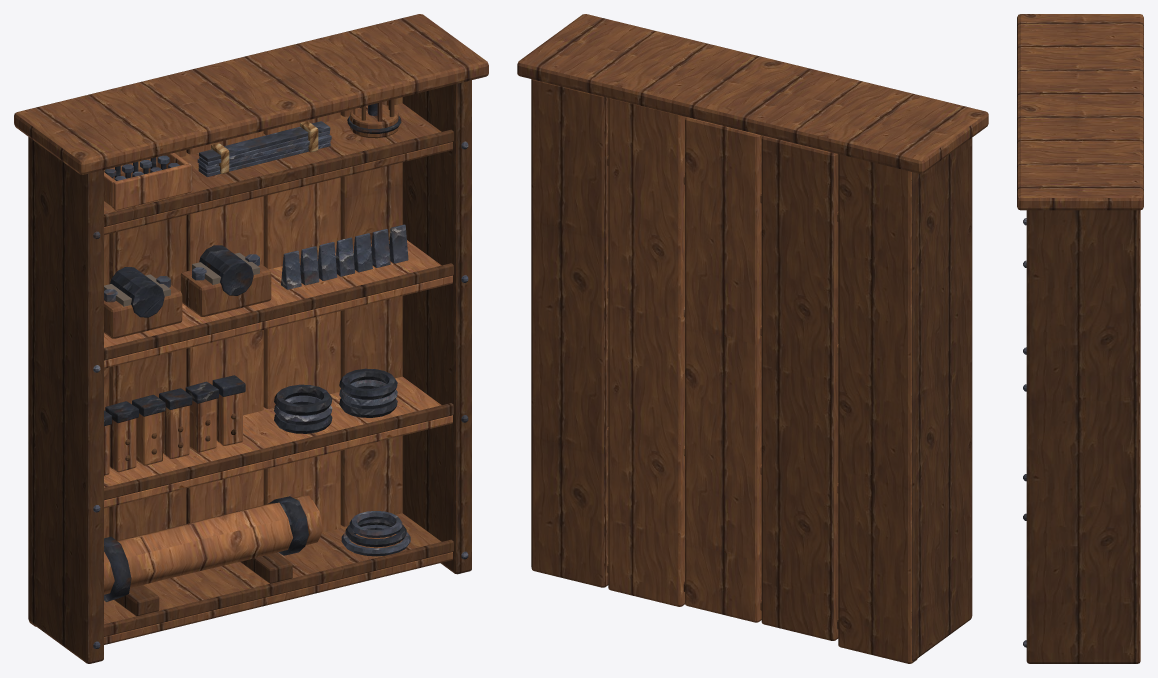
The model's file is hw_parts_rack.glb.
3 views of the same model, side by side, from view 1: azimuth 30°, elevation 25°; view 2: azimuth 150°, elevation 25°; view 3: azimuth 270°, elevation 25° (orthographic). The views are drawn at different scales.
Parts seen in each view (by area): view 1: model; view 2: model; view 3: model.
Boxes of the visible parts, left/top/right/bottom form: model: left=14, top=14, right=488, bottom=663; model: left=517, top=14, right=988, bottom=663; model: left=1017, top=14, right=1143, bottom=663.
Bounding box in the file's own units: 1.38 × 1.65 × 0.4.
Materials: 10 (9 with a texture image).
